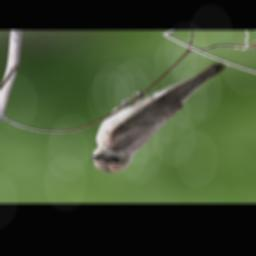Swallow: (89, 58, 232, 176)
